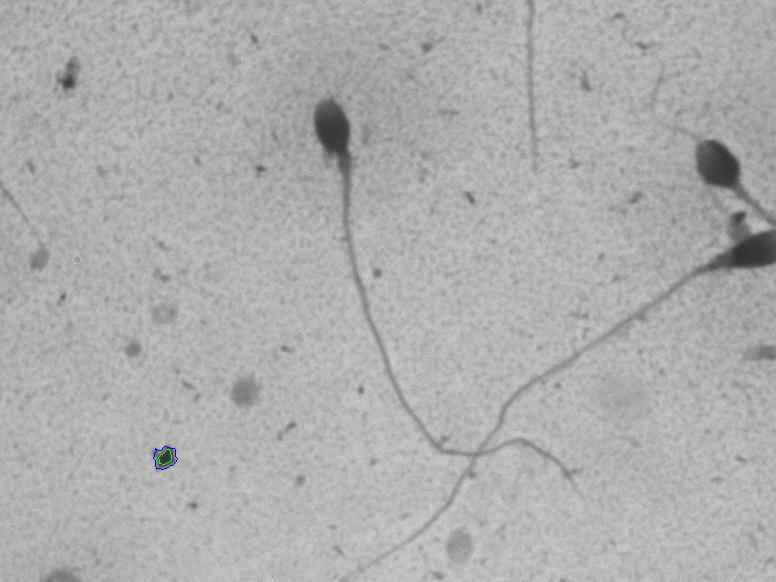Normal: (283, 83, 465, 441)
